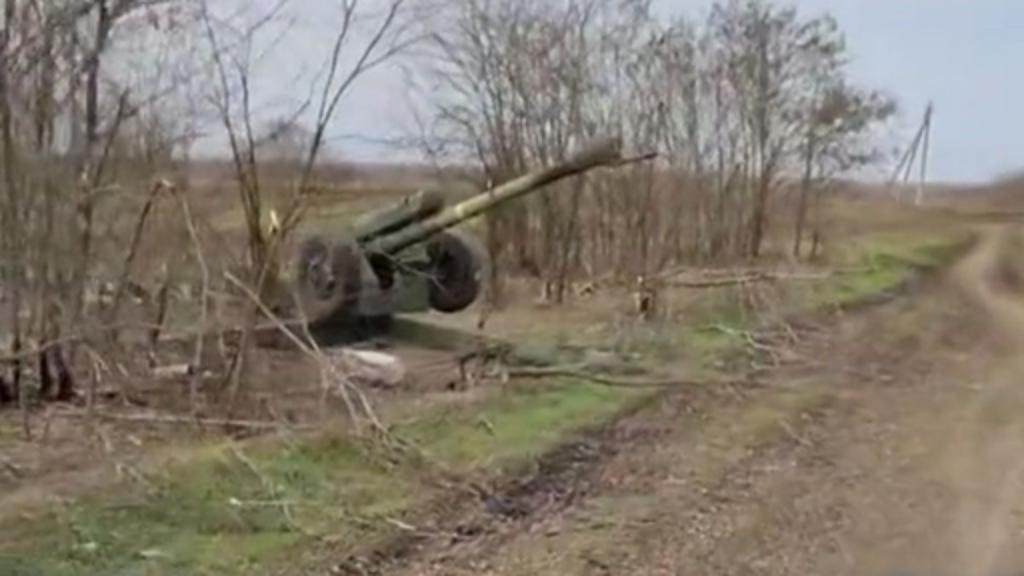ART: (286, 126, 660, 354)
